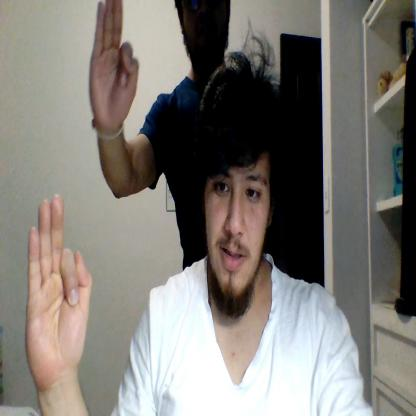F: (25, 193, 92, 385), (88, 0, 139, 126)
